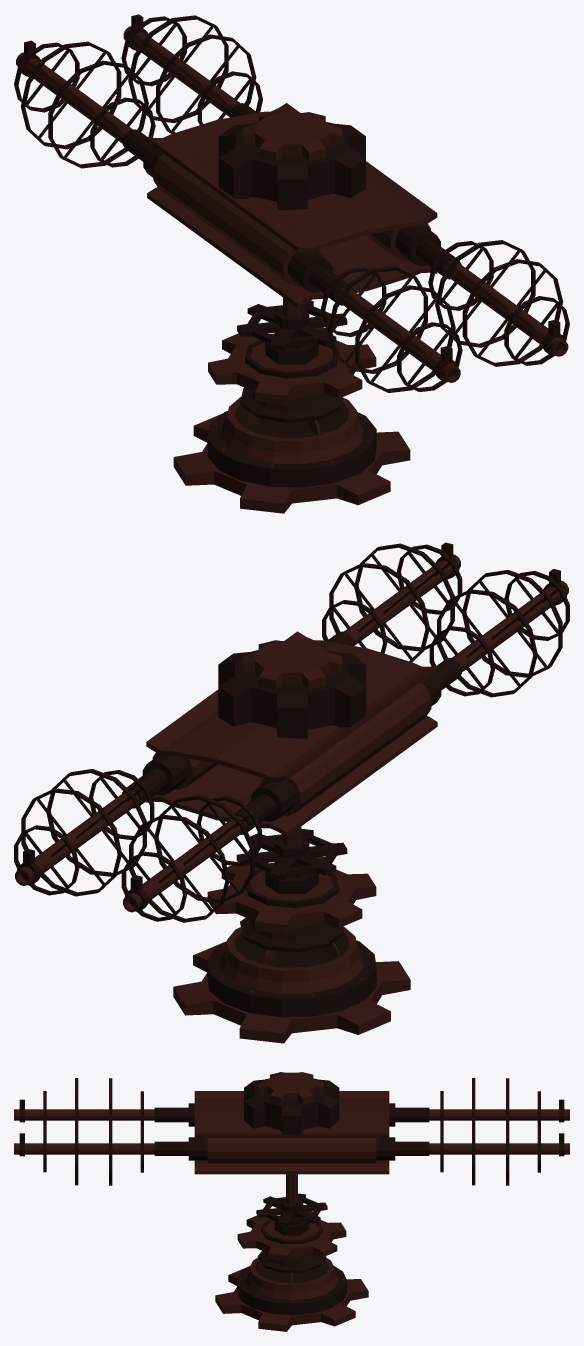
Rendered from Laser_Quad.obj.
3 renders of one model, top to bottom at view 1: azimuth 30°, elevation 25°; view 2: azimuth 150°, elevation 25°; view 3: azimuth 270°, elevation 25°, orthographic. The views are drawn at different scales.
Visible parts, largest first — view 1: Laser_Quad_Gun_Cylinder.254, Laser_Quad_Base_Cylinder.147, Laser_Quad_Mid_Cylinder.253; view 2: Laser_Quad_Gun_Cylinder.254, Laser_Quad_Base_Cylinder.147, Laser_Quad_Mid_Cylinder.253; view 3: Laser_Quad_Gun_Cylinder.254, Laser_Quad_Base_Cylinder.147, Laser_Quad_Mid_Cylinder.253.
Boxes of the visible parts, left/top/right/bottom form: Laser_Quad_Gun_Cylinder.254: left=14, top=14, right=569, bottom=392; Laser_Quad_Base_Cylinder.147: left=173, top=335, right=410, bottom=513; Laser_Quad_Mid_Cylinder.253: left=208, top=297, right=376, bottom=404; Laser_Quad_Gun_Cylinder.254: left=14, top=542, right=569, bottom=922; Laser_Quad_Base_Cylinder.147: left=173, top=868, right=410, bottom=1043; Laser_Quad_Mid_Cylinder.253: left=207, top=827, right=376, bottom=933; Laser_Quad_Gun_Cylinder.254: left=14, top=1072, right=569, bottom=1185; Laser_Quad_Base_Cylinder.147: left=215, top=1216, right=368, bottom=1331; Laser_Quad_Mid_Cylinder.253: left=237, top=1174, right=346, bottom=1261.
Bounding box in the file's own units: 1.39 × 2.16 × 5.
